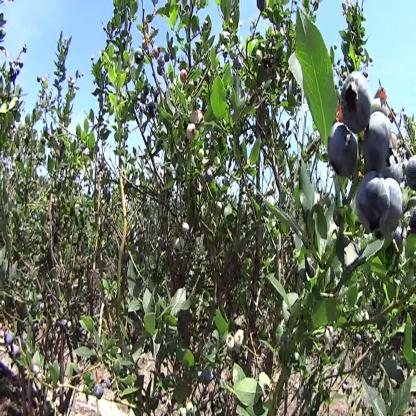intermediate: (186, 122, 198, 139), (180, 67, 190, 86), (190, 110, 200, 126)
mature: (354, 177, 406, 239), (365, 114, 403, 180), (340, 72, 375, 136), (330, 122, 362, 181), (92, 380, 106, 403)
young: (225, 331, 247, 354), (177, 402, 196, 416), (181, 219, 192, 235), (216, 199, 226, 215), (255, 49, 264, 66), (198, 148, 206, 162)
